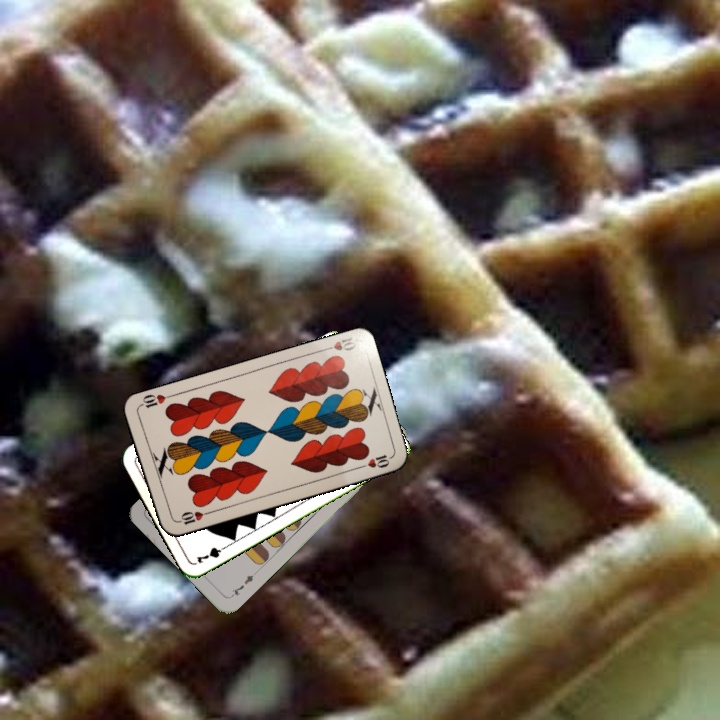E7: (226, 569, 259, 600)
G7: (192, 541, 231, 566)
H10: (318, 333, 358, 354), (172, 507, 212, 527)
